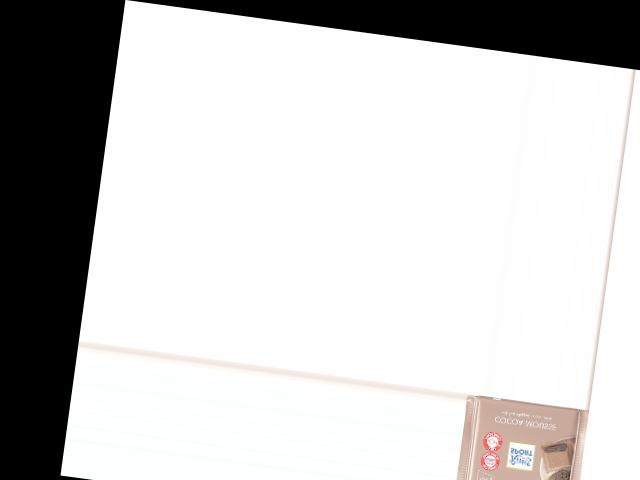chocolate: (456, 392, 589, 480)
